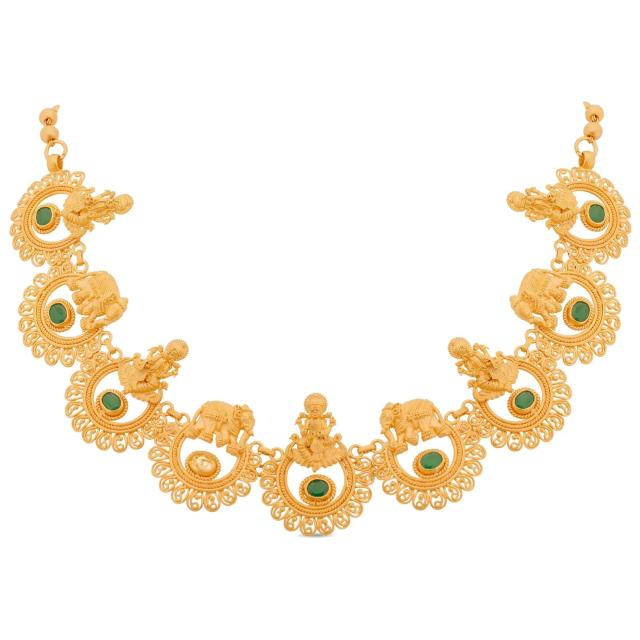missing gem: (190, 456, 216, 475)
